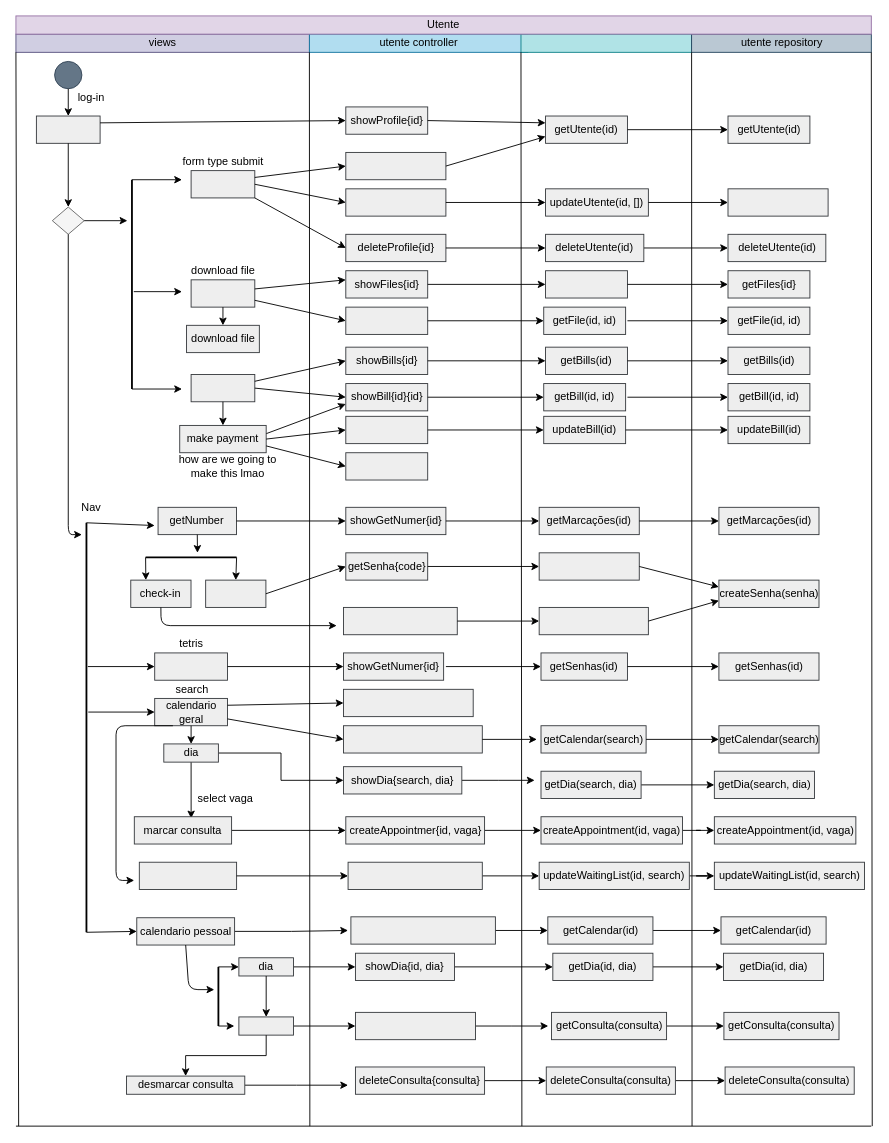
This 889x1143 diagram has some shape labels left out. Each missing label, with the centre of its shape:
bills: [222,388]
consulta: [265,1025]
files history: [222,293]
getFiles(id): [586,284]
getSenha(code): [588,566]
getSenha(marcação): [593,621]
getSenha{idMarcação}: [400,621]
lista de espera: [187,875]
profile: [67,129]
putWaitingList{id, search}: [414,875]
senhas: [235,593]
settings: [222,184]
showCalendarGeral{search}: [412,739]
showCalendarioGeral{id}: [408,702]
showCalendarioPessoal{id}: [422,930]
showConsulta{consulta}: [415,1025]
showError: [386,466]
showFile{id}{id}: [386,320]
showSettings{id}: [395,166]
showSucces: [386,429]
track numbers: [191,666]
updateProfile{id}: [395,202]
updateUtente(id,[]): [777,202]
utente service: [606,42]
